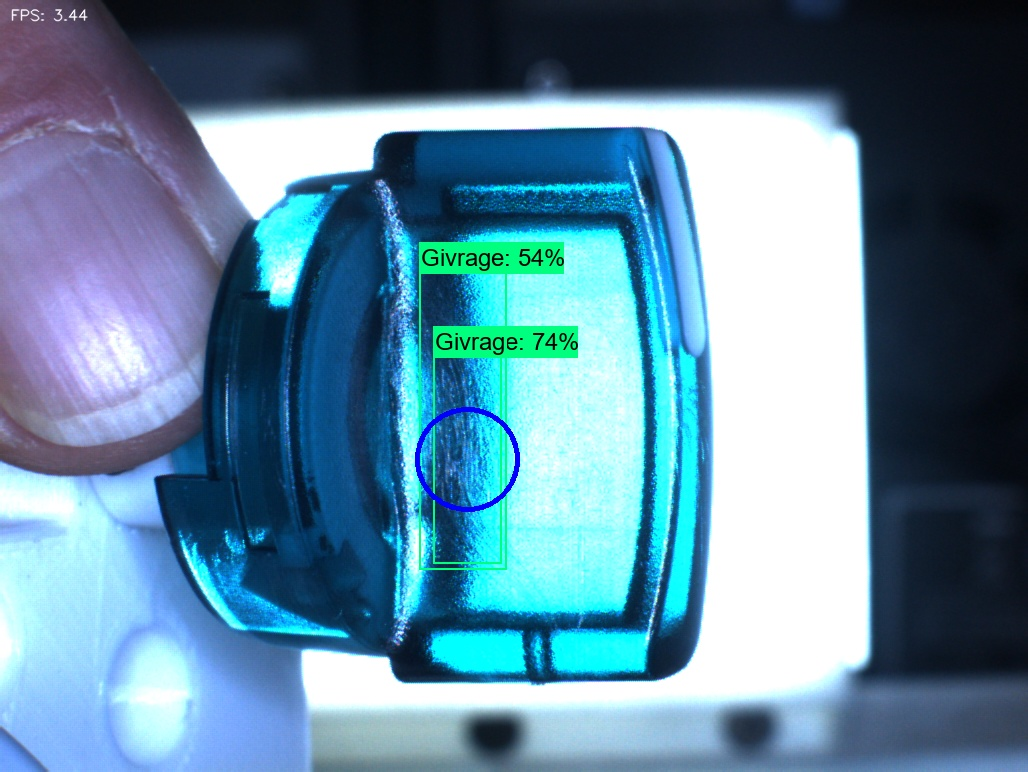Bulle: (486, 603, 595, 718)
